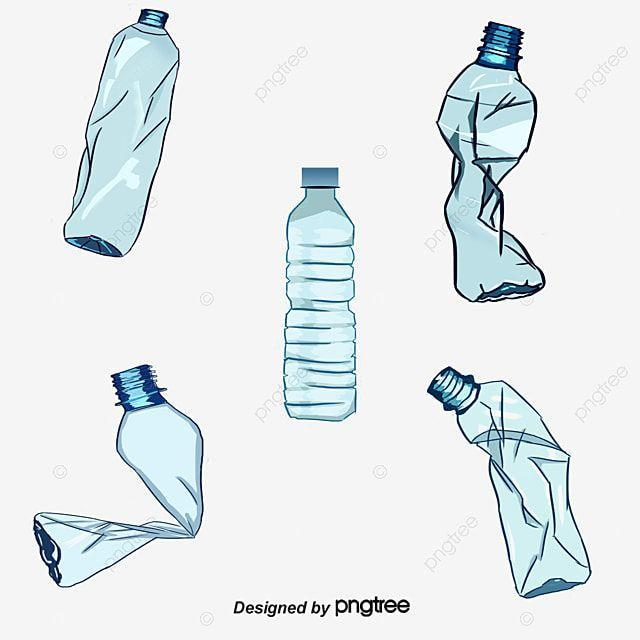Plastic: (400, 352, 610, 604), (406, 8, 568, 314), (21, 350, 214, 602), (50, 0, 188, 264), (252, 158, 384, 428)
